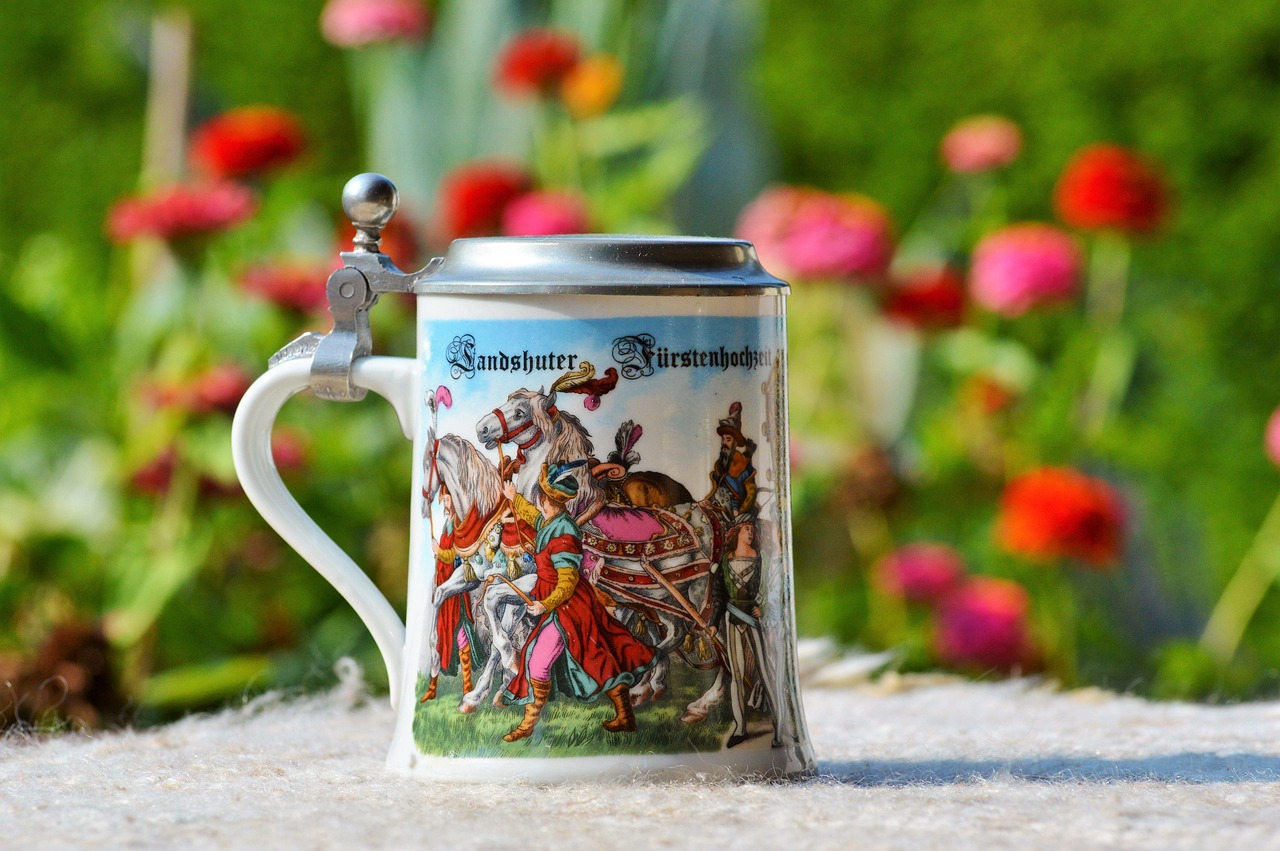mug: (198, 139, 858, 850)
